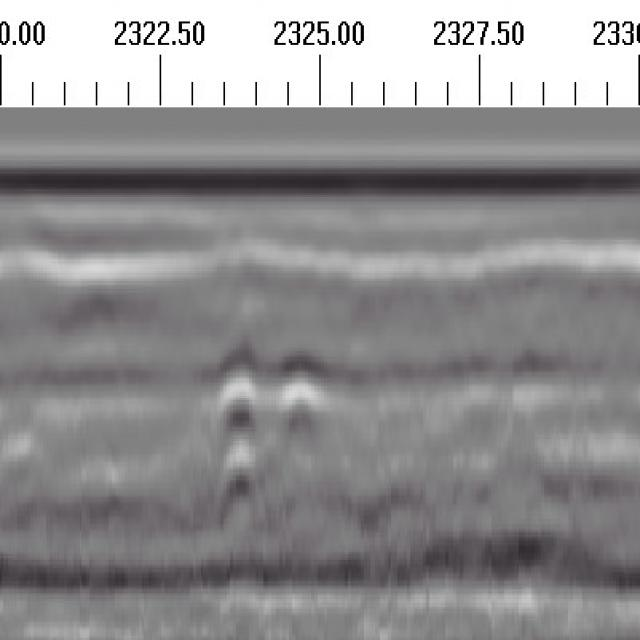loose: (212, 319, 327, 510)
